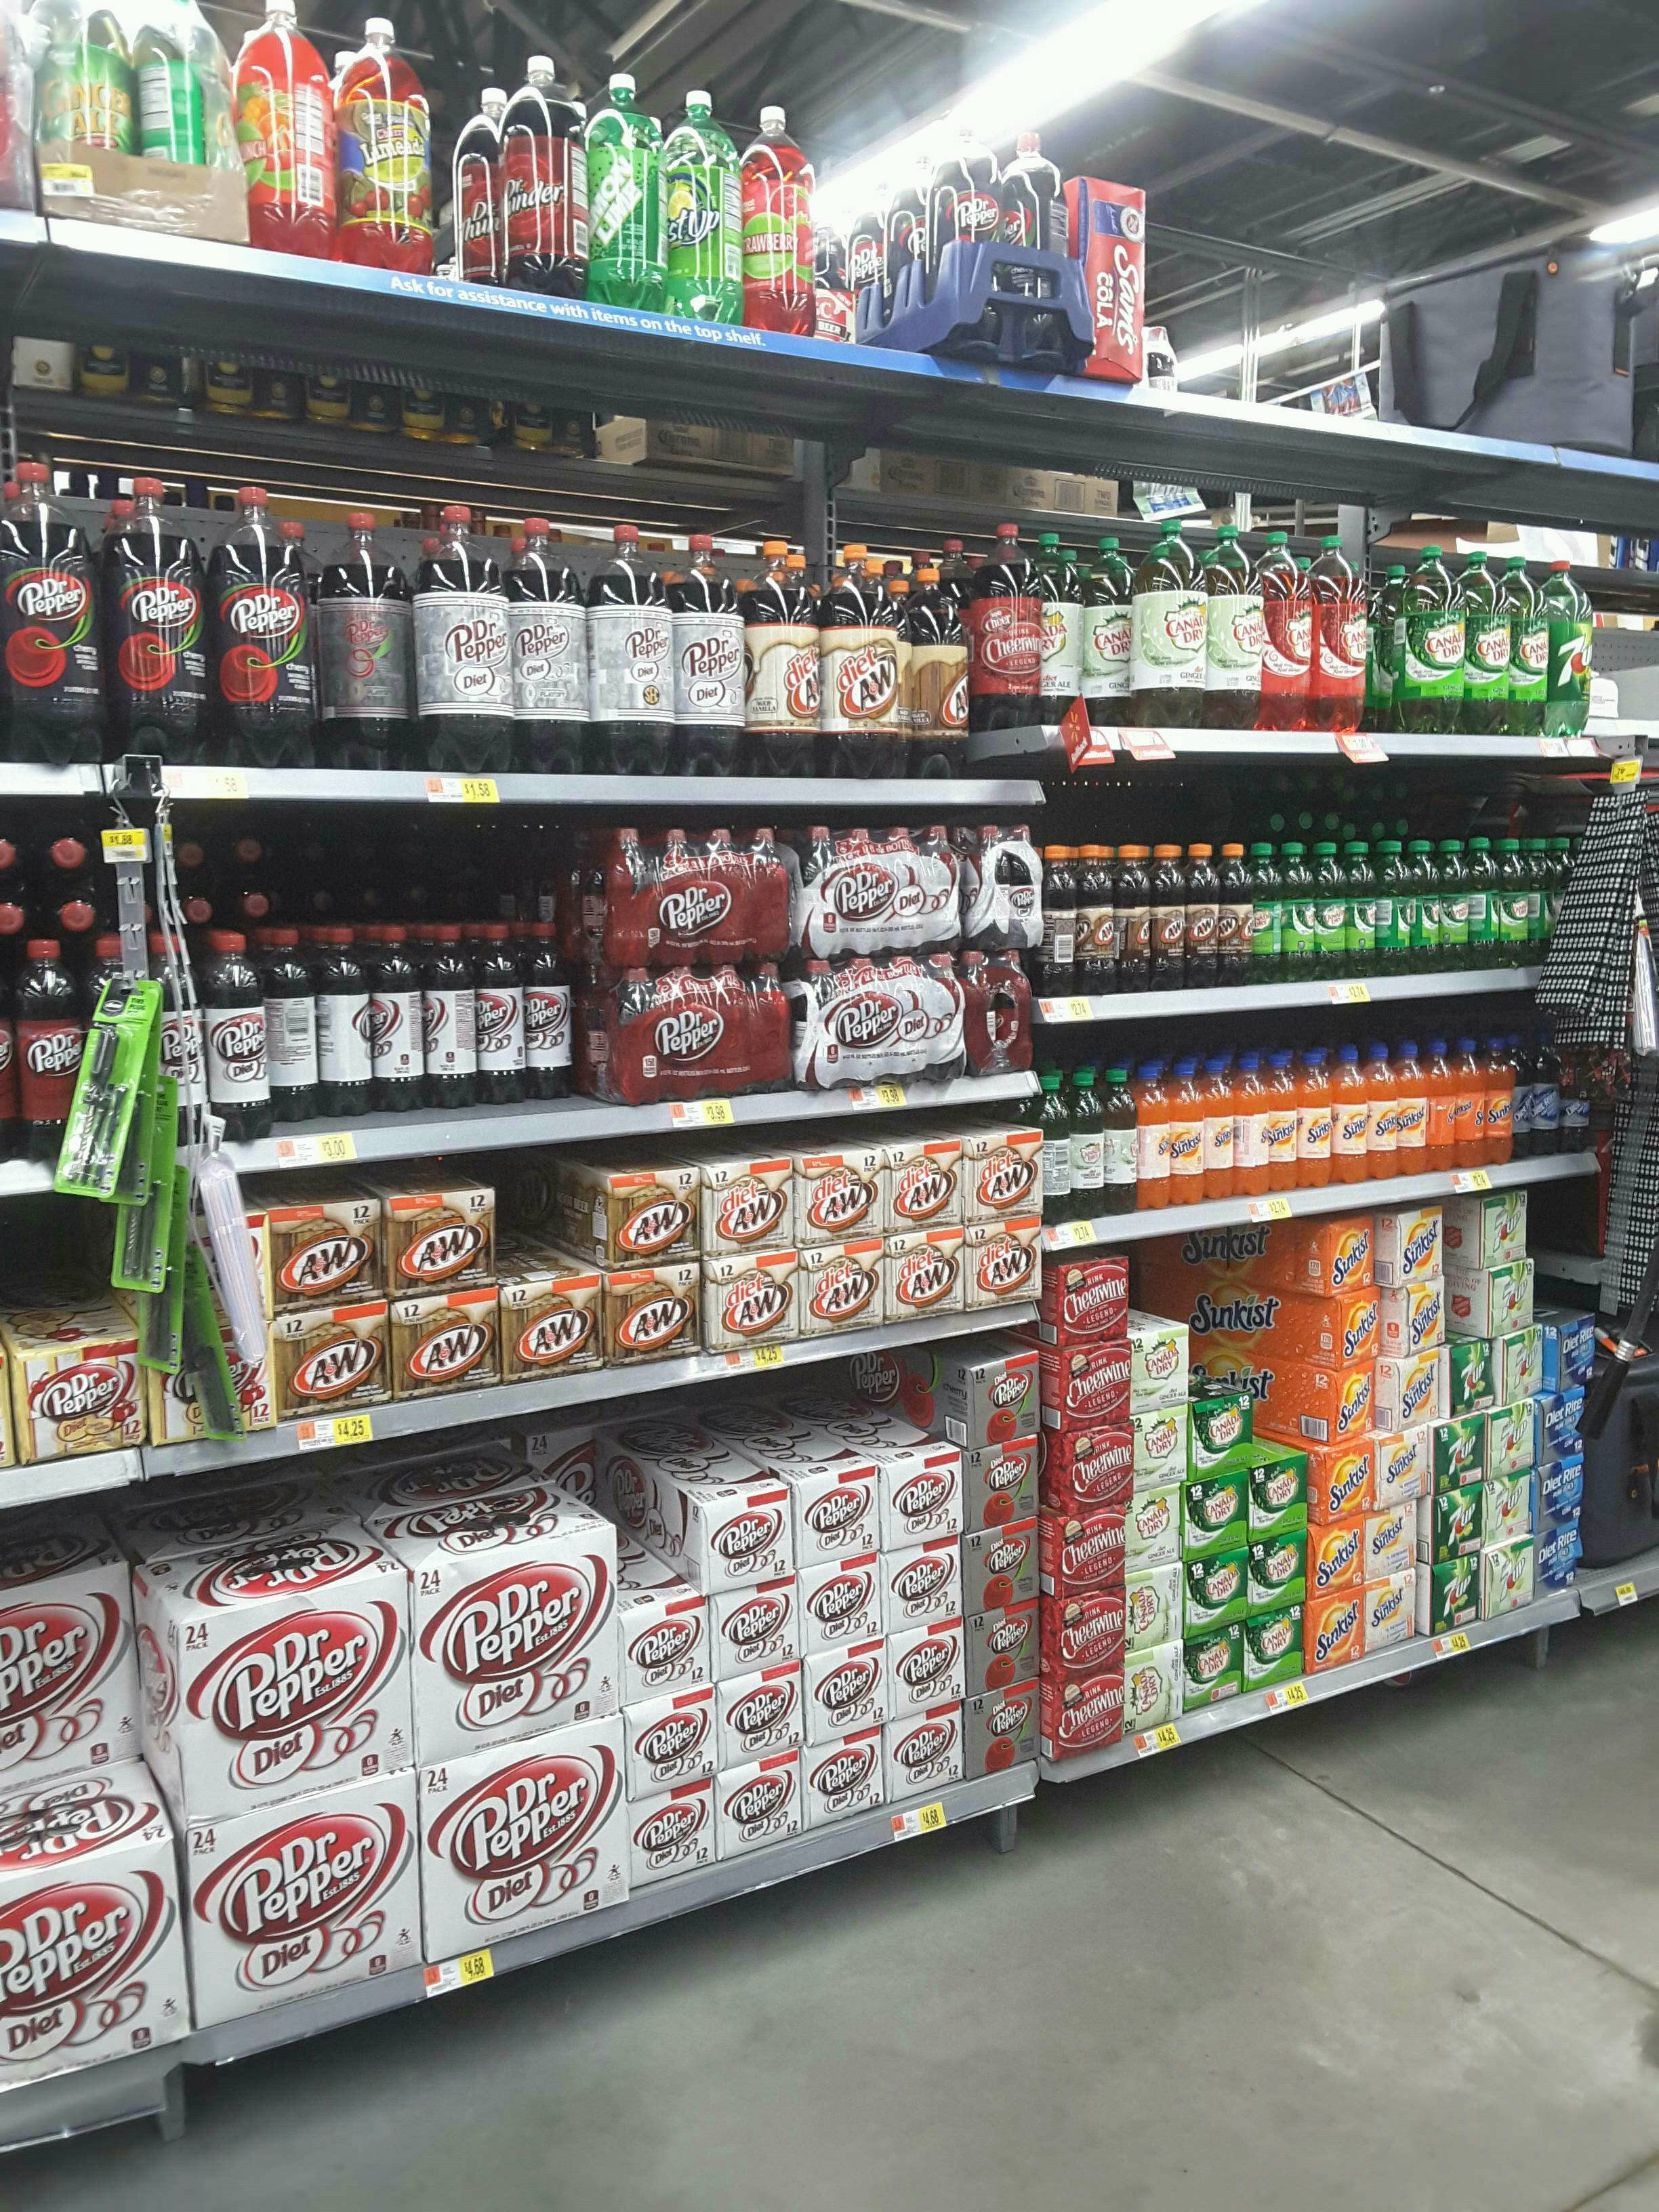Misplacement: (279, 928, 603, 1134), (615, 1432, 720, 1902), (497, 1150, 615, 1383)
